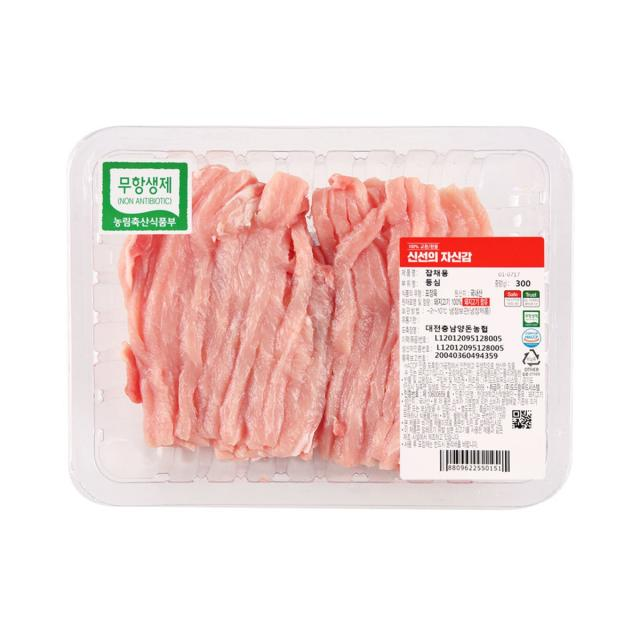pork: (69, 133, 574, 523)
